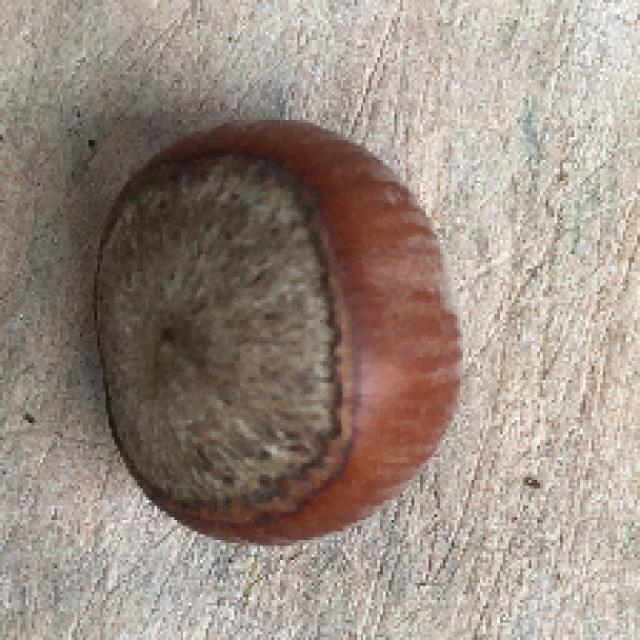qualityHazelnut: (81, 108, 465, 554)
